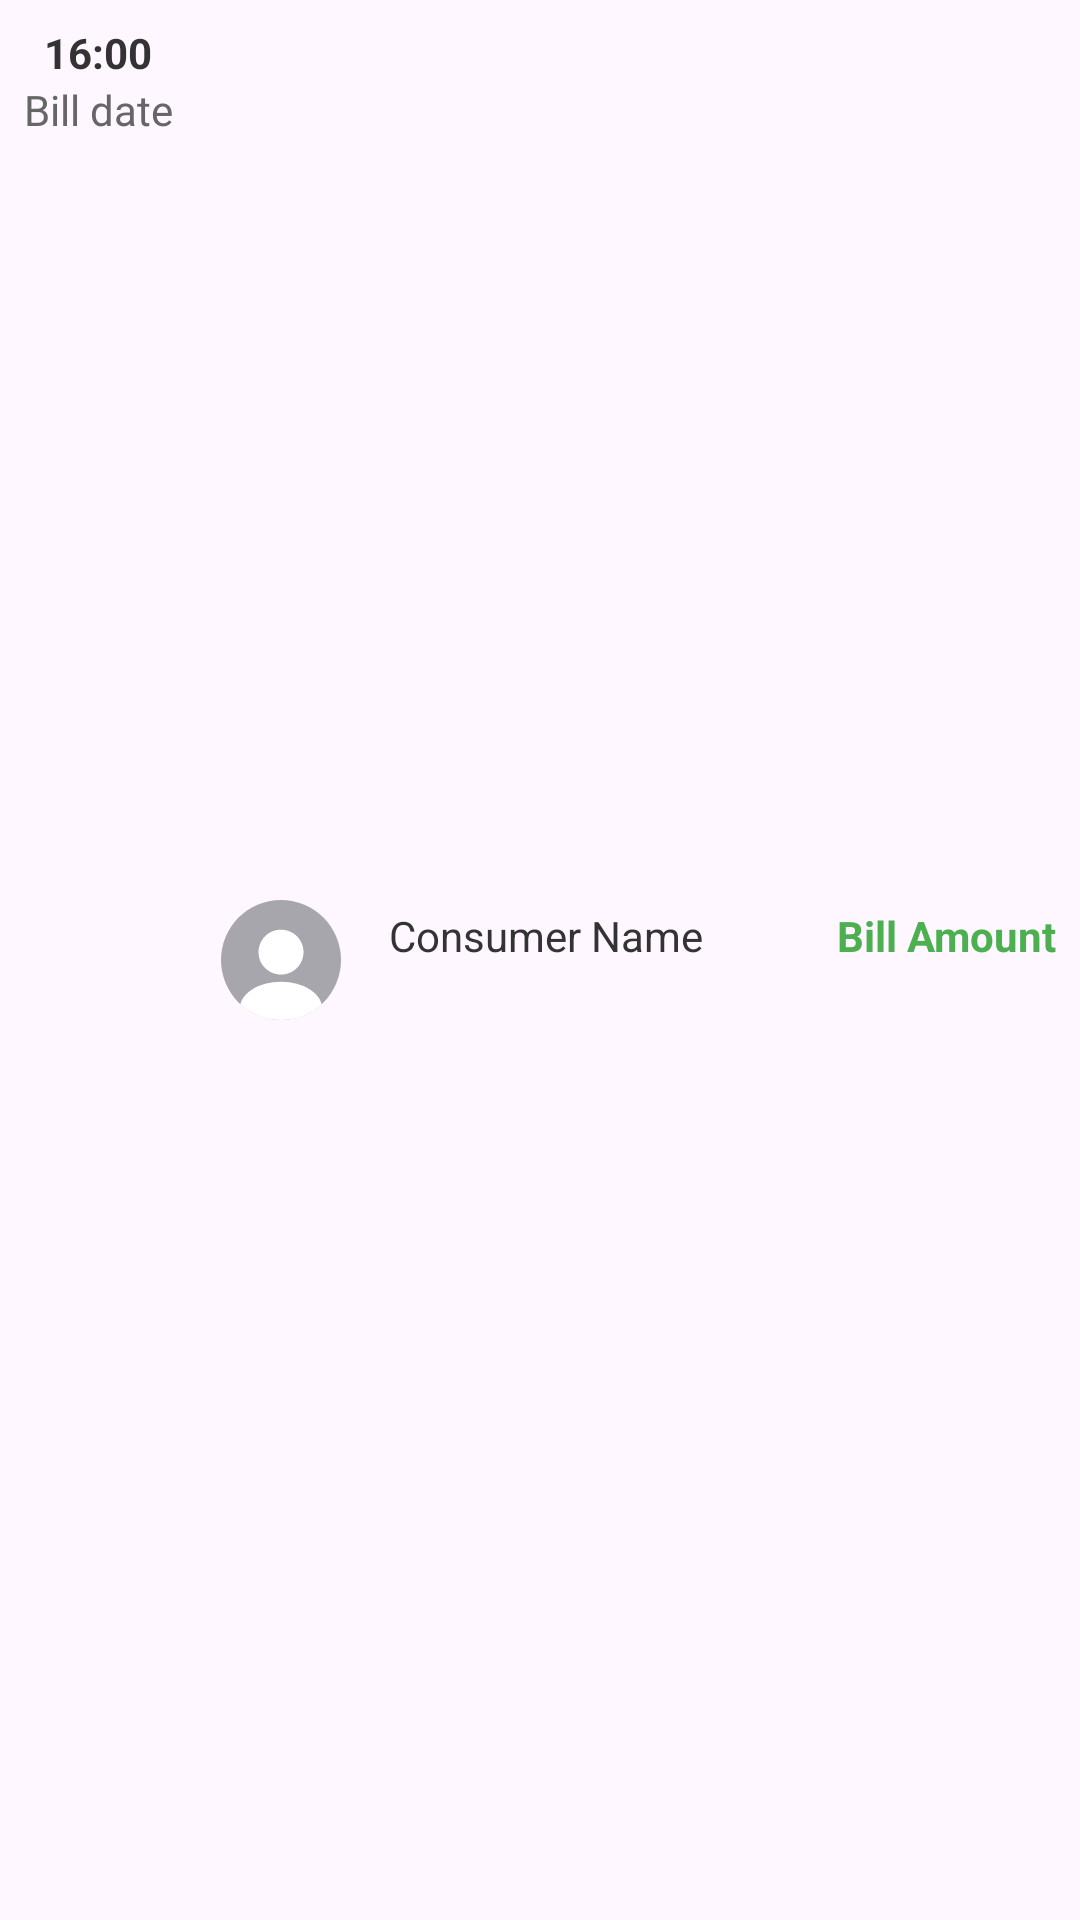

Screen size 1080px×1920px. Icon name, then its center in pixels as (x,y):
progile: (281,952)
